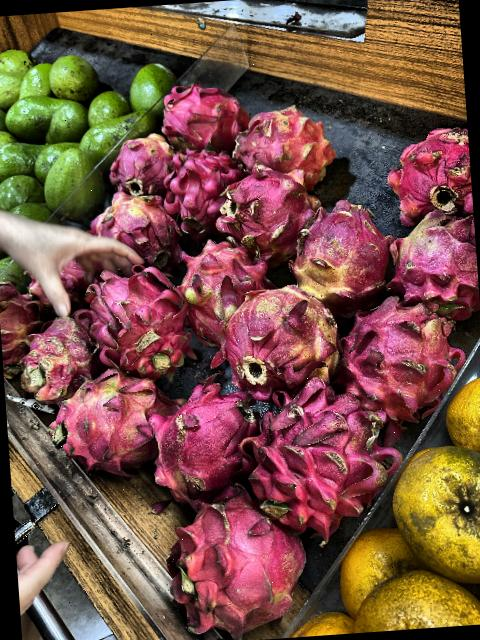buah-naga-belum-matang: (225, 284, 350, 396), (278, 202, 387, 308), (398, 207, 480, 315), (48, 376, 144, 464), (182, 240, 263, 328), (27, 317, 102, 403), (98, 193, 181, 269), (116, 128, 180, 190)
buah-naga-matang: (163, 480, 310, 632), (242, 382, 384, 522), (341, 295, 464, 417), (147, 384, 237, 486), (216, 171, 320, 258), (244, 105, 350, 186), (154, 81, 248, 153), (396, 128, 472, 212), (171, 146, 229, 212)
